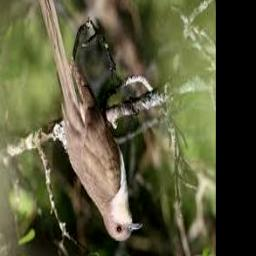Cuckoo: (38, 0, 142, 242)
